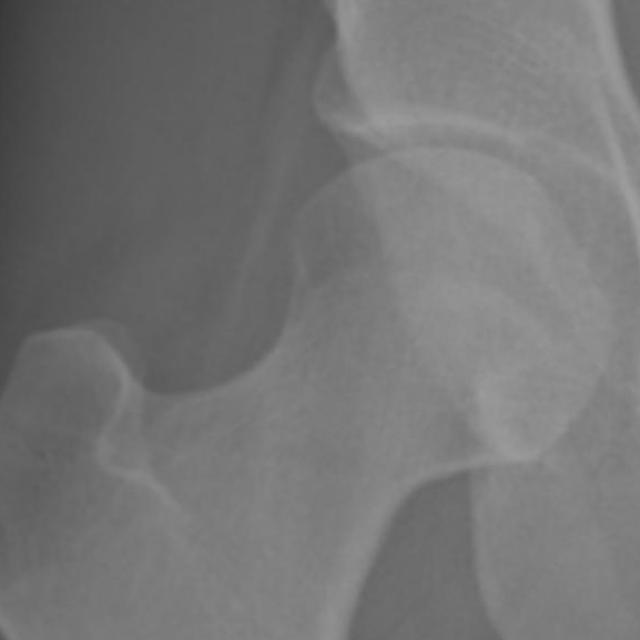Fitted_femural_head: (348, 146, 432, 348)
